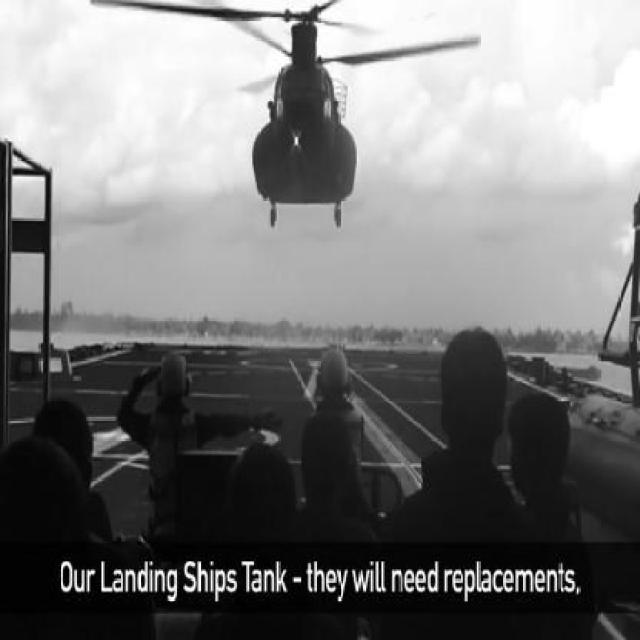Helicopter: (91, 1, 480, 230)
